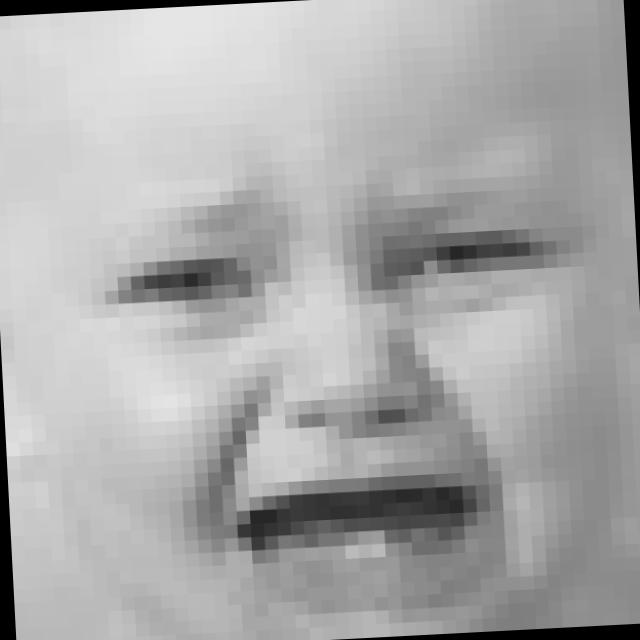sad: (66, 144, 614, 627)
